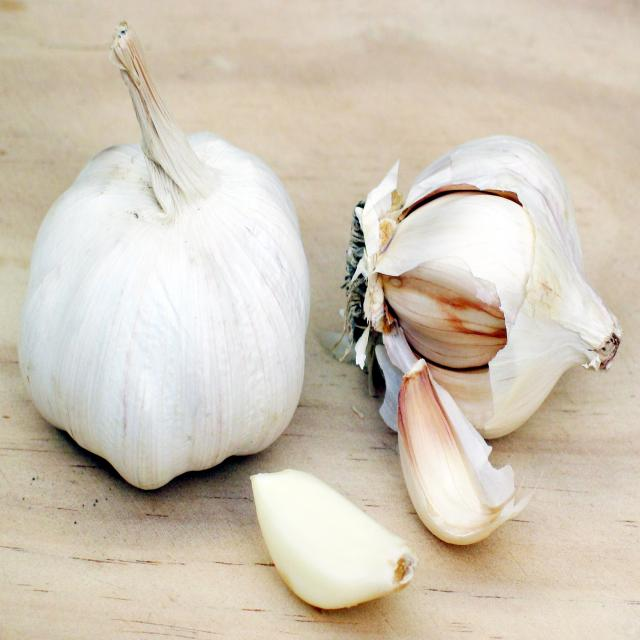garlic: (10, 124, 303, 455), (382, 128, 639, 379), (250, 465, 408, 630), (394, 368, 495, 562)
